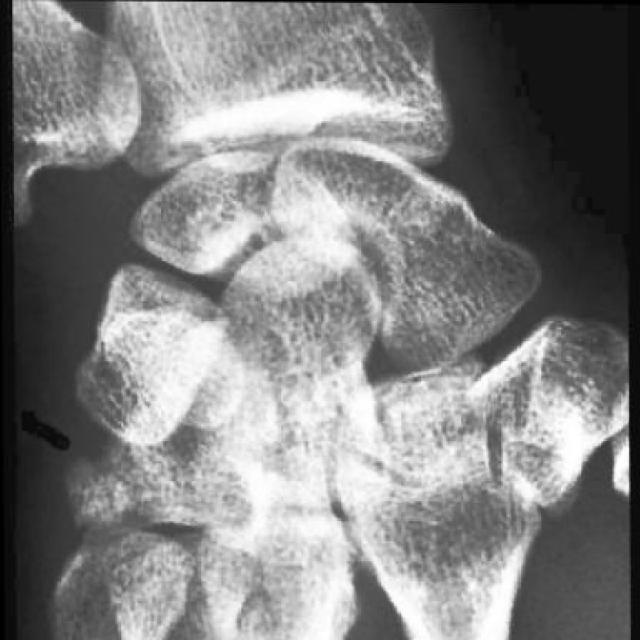Fracture: (63, 439, 156, 547)
